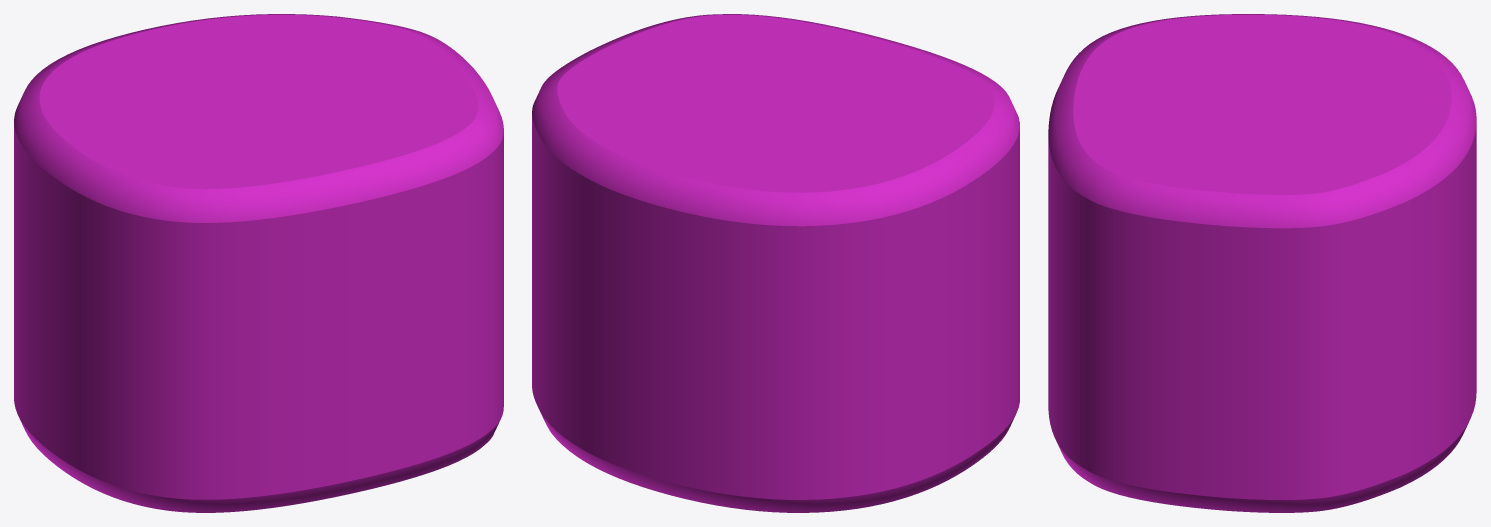
Rendered from Bubble_FullStop.fbx.
3 views of the same model, side by side, from view 1: azimuth 30°, elevation 25°; view 2: azimuth 150°, elevation 25°; view 3: azimuth 270°, elevation 25° (orthographic).
Visible parts, largest first — view 1: BubbleFullStop; view 2: BubbleFullStop; view 3: BubbleFullStop.
Part boxes in pixels (bbox=[...]): BubbleFullStop: bbox=[14, 14, 503, 512]; BubbleFullStop: bbox=[532, 14, 1019, 512]; BubbleFullStop: bbox=[1048, 14, 1476, 512].
Size of the model in its own units: 0.1907 by 0.14 by 0.1713.
